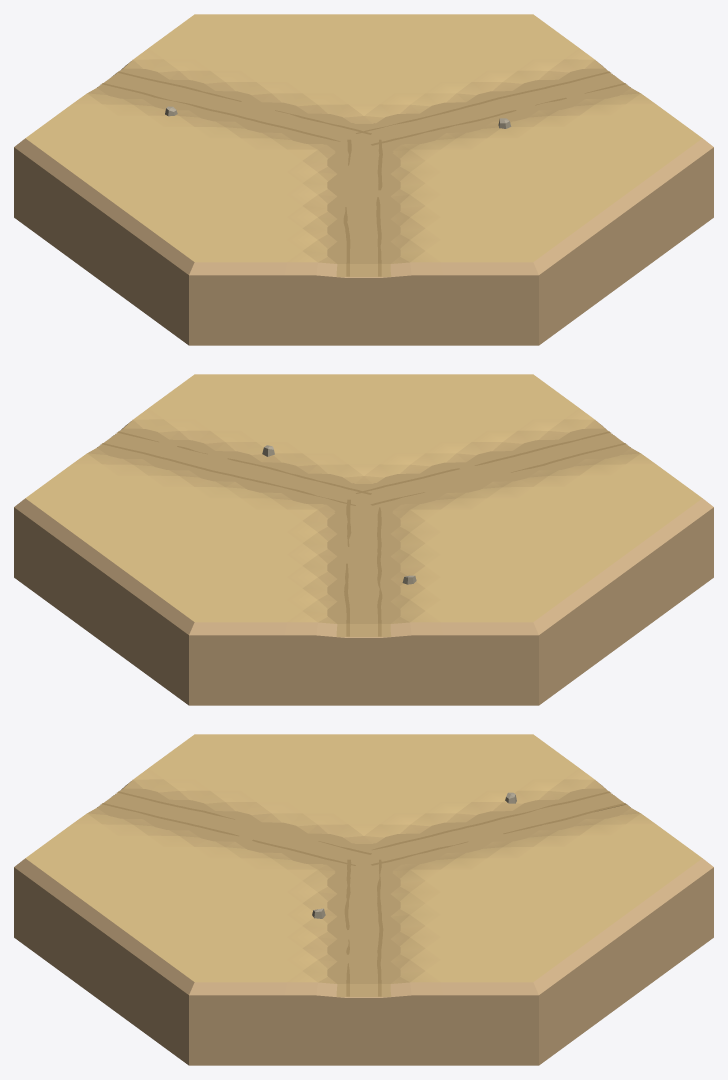
File: road_fork_dry.fbx
3 renders of one model, top to bottom at view 1: azimuth 30°, elevation 25°; view 2: azimuth 150°, elevation 25°; view 3: azimuth 270°, elevation 25°, orthographic.
Parts seen in each view (by area): view 1: road_fork_dry; view 2: road_fork_dry; view 3: road_fork_dry.
Part boxes in pixels (x1,y1,x2,y2): road_fork_dry: (14,14,713,345); road_fork_dry: (14,374,713,705); road_fork_dry: (14,734,713,1065).
Bounding box in the file's own units: 1.73 × 0.27 × 2.
